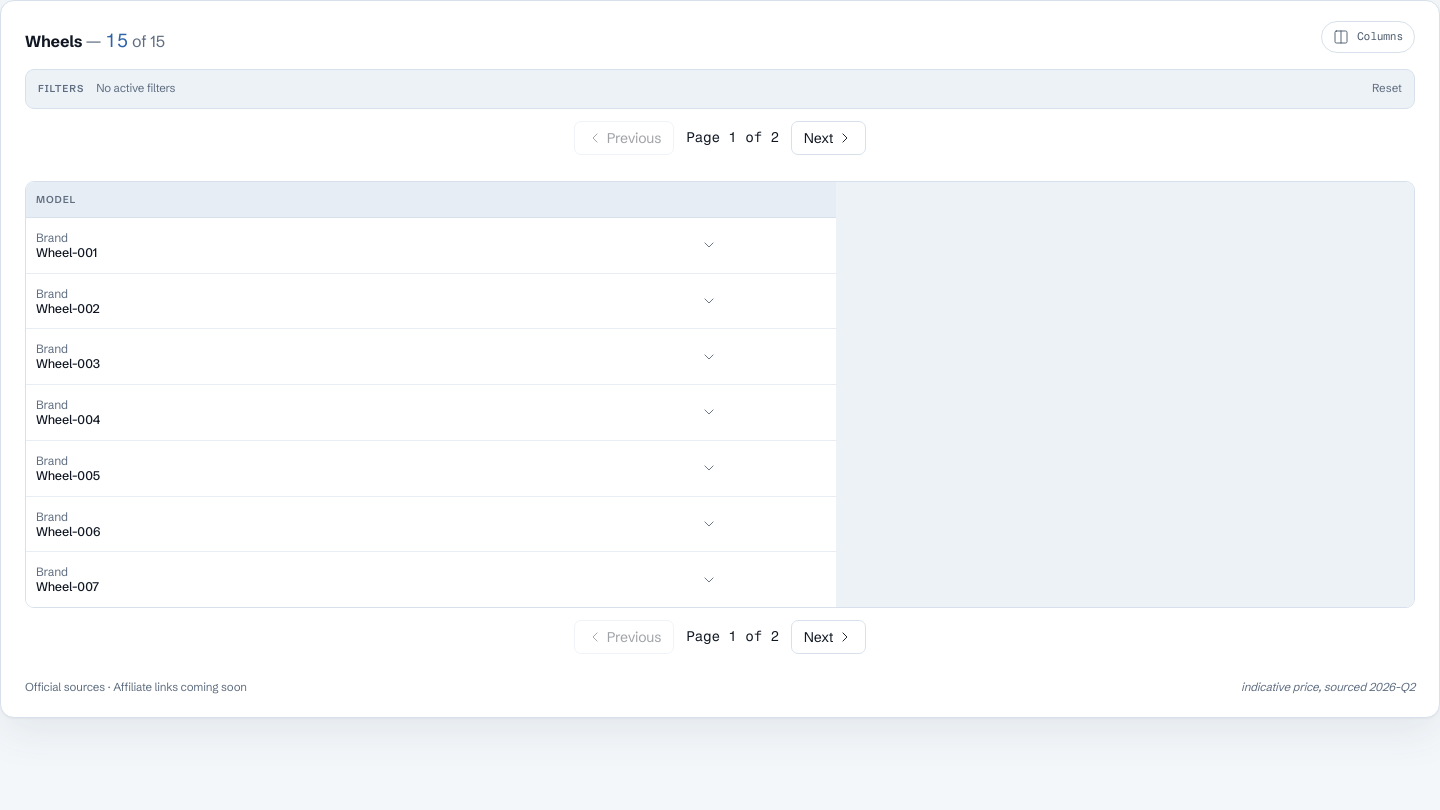
Test: ComparisonTable pagination (EVO-061) › panel closure on page change › closes the detail panel when navigating to another page
The image size is (1440, 810).
Click the row "Brand Wheel-001" at (431, 245), box 26,217 -> 836,273
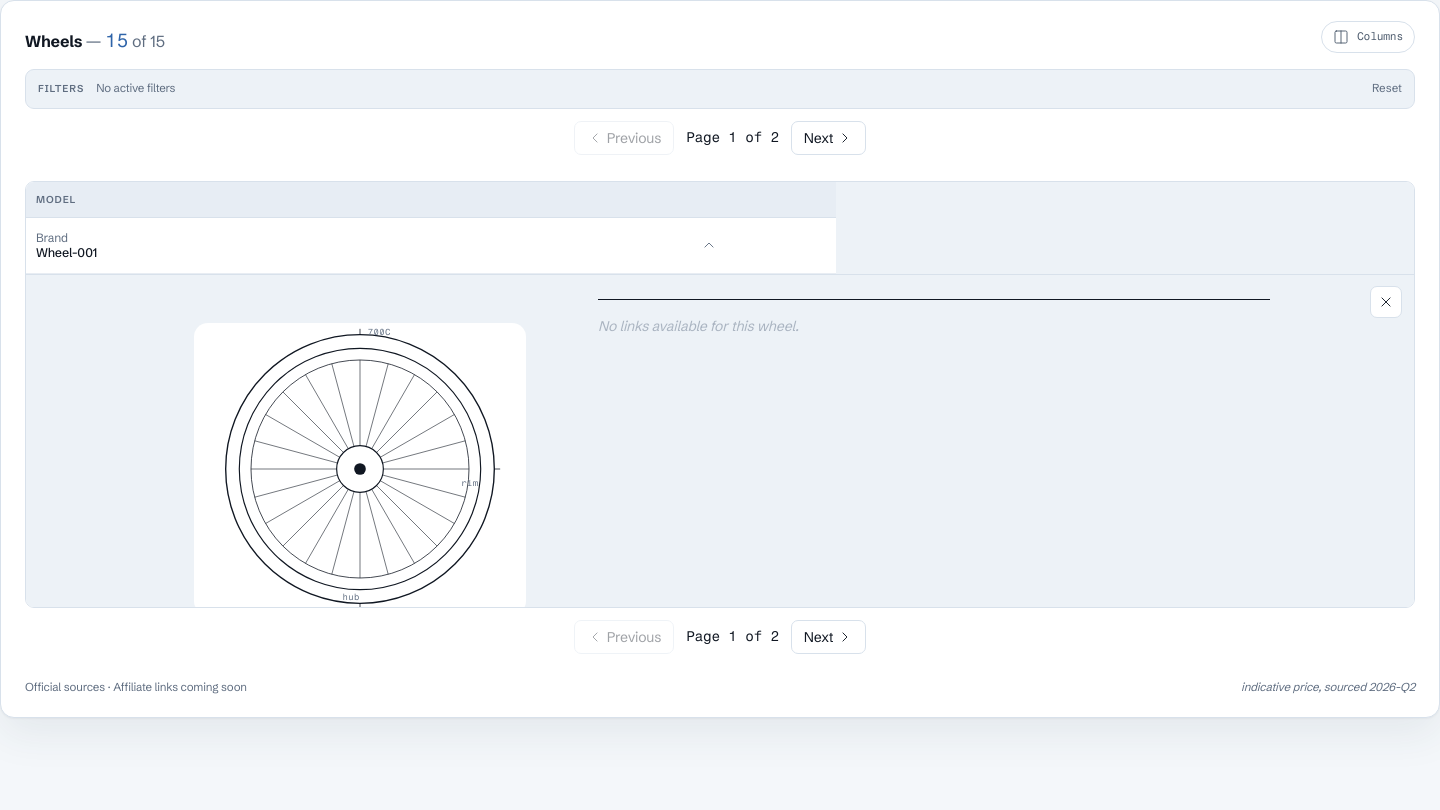
Now the text "No links available for this wheel." is shown, box 598,317 -> 799,335
Click the 1st button "Next" at (829, 138), box 791,121 -> 866,155
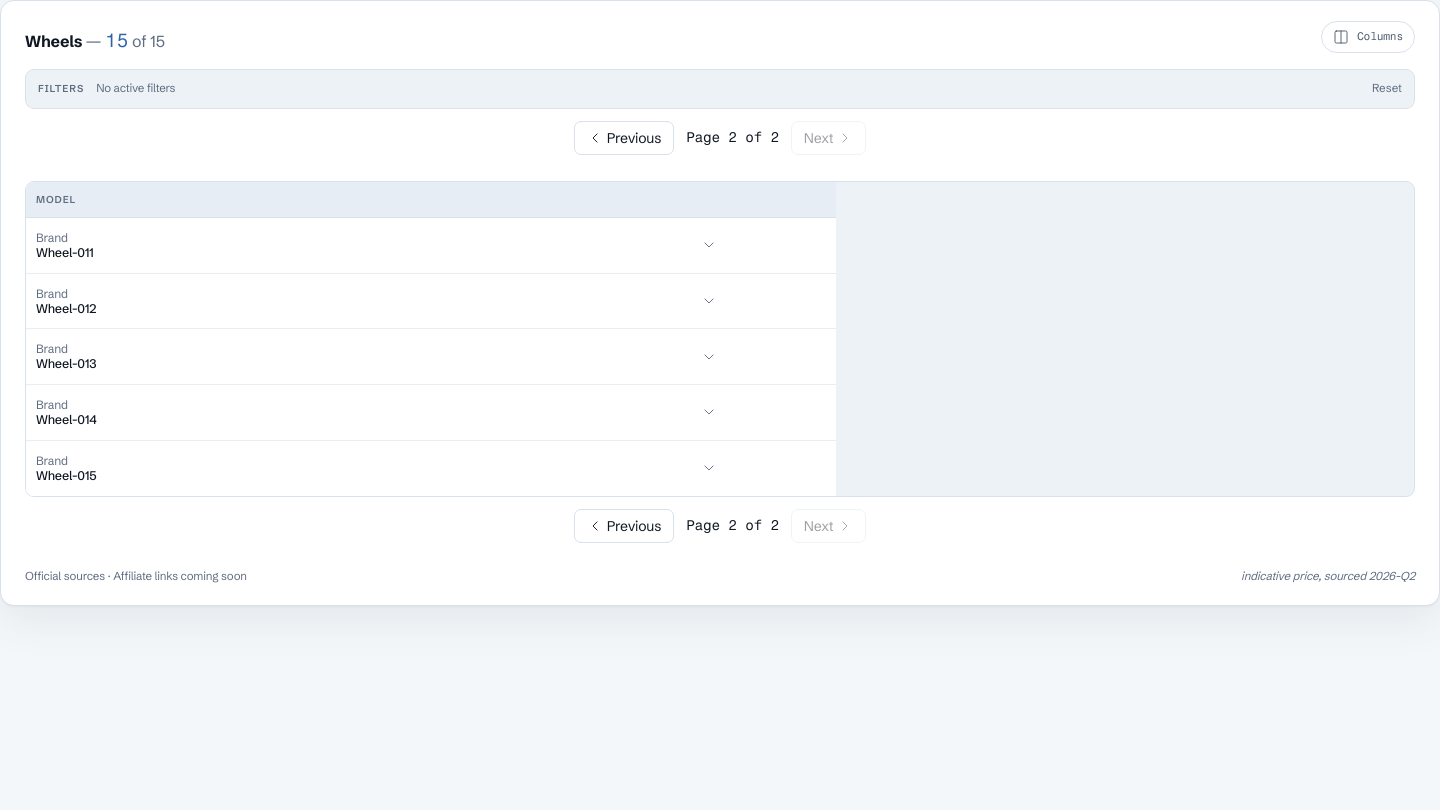
Now the text "No links available for this wheel." is gone
